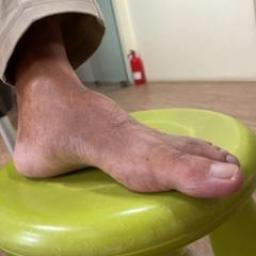Medial View -Left Foot-: (1, 38, 250, 212)
